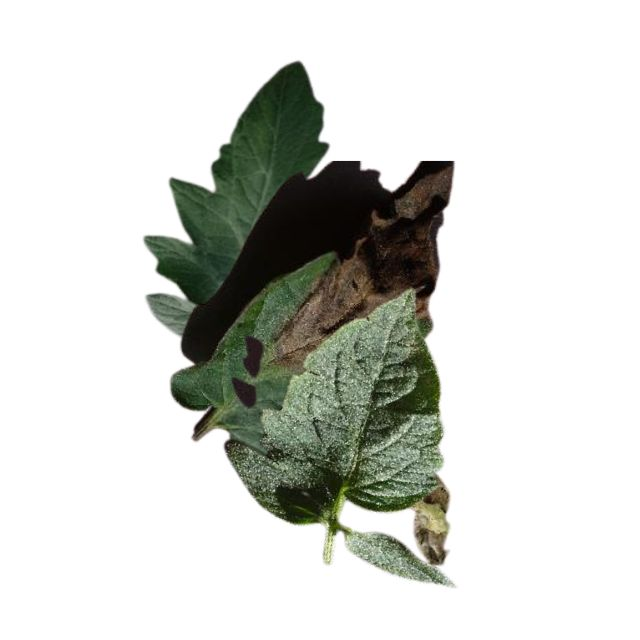Late_blight: (148, 62, 330, 303), (272, 165, 453, 368), (409, 478, 451, 563)
